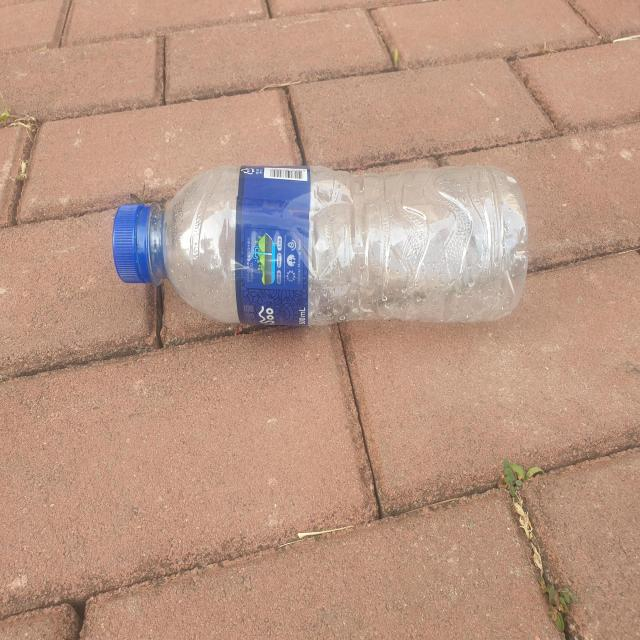plastic: (112, 165, 528, 326)
